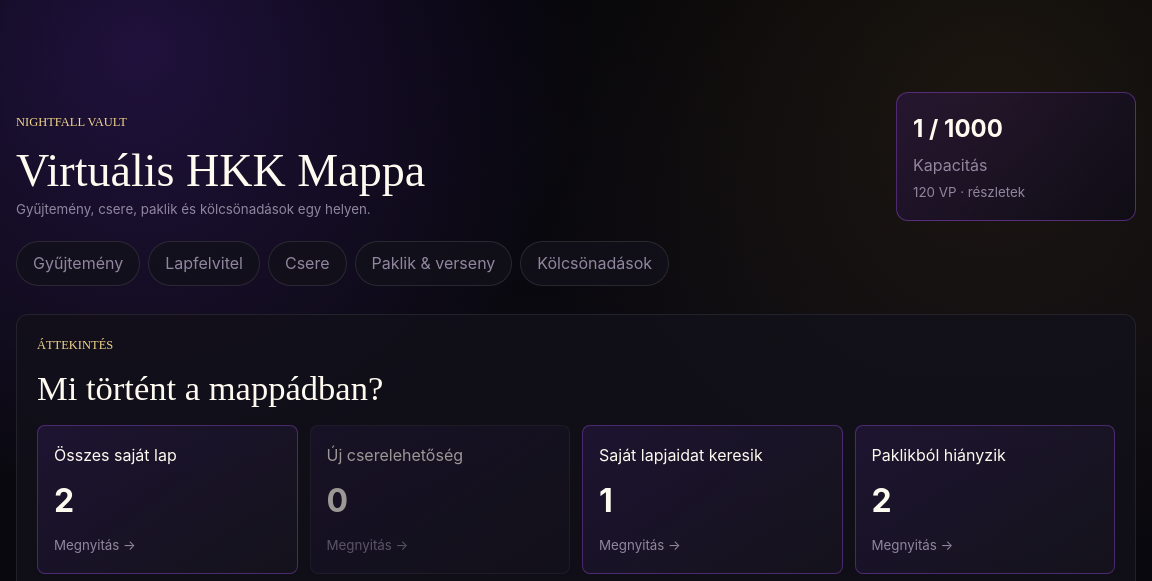
Test: VirtualVaultPage › az almappasort csak névvel és kapacitással mutatja, a részleteket tooltipben tartja
The width and height of the screenshot is (1152, 581).
Expected: the heading "Mi történt a mappádban?" is shown, [37, 369, 383, 407]
Click the button "Gyűjtemény".
click(78, 264)  # box [16, 240, 140, 286]
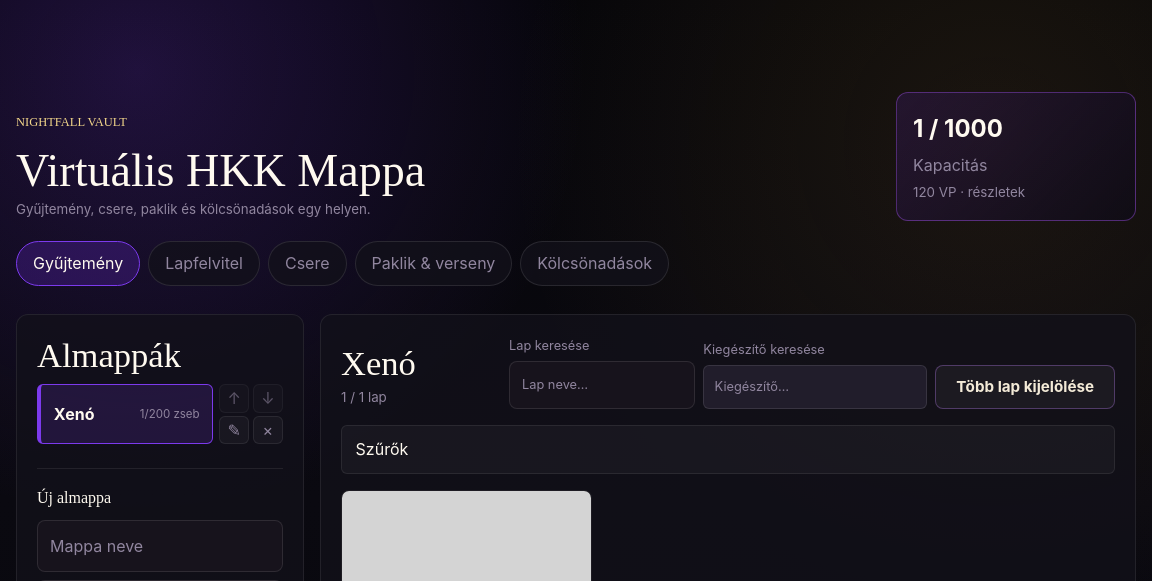
Expected: the button with aria-label "Xenó, 1/200 zseb" reads "Xenó 1/200 zseb", [37, 384, 213, 444]
